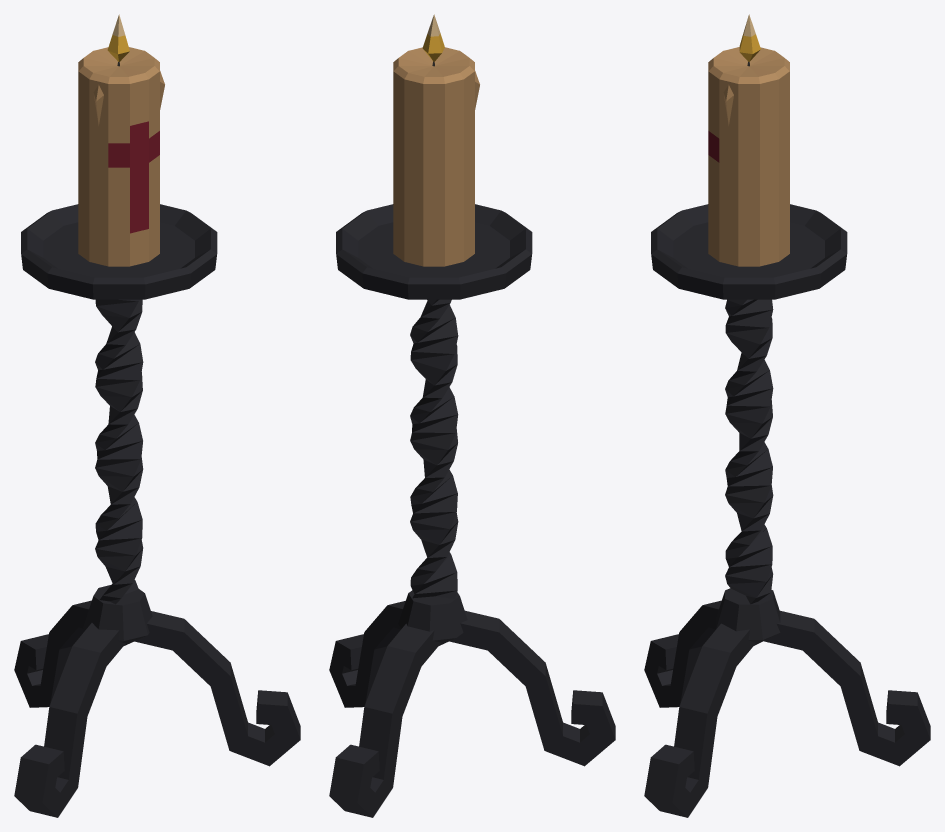
Rendered from cirio-stand-828e85.glb.
3 renders of one model, left to right at view 1: azimuth 30°, elevation 25°; view 2: azimuth 150°, elevation 25°; view 3: azimuth 270°, elevation 25°, orthographic.
Parts seen in each view (by area): view 1: stand, cirio-wax, flame-mesh; view 2: stand, cirio-wax, flame-mesh; view 3: stand, cirio-wax, flame-mesh.
Boxes of the visible parts, x1=… form: stand: x1=14, y1=204, x2=300, y2=817; cirio-wax: x1=78, y1=47, x2=164, y2=266; flame-mesh: x1=107, y1=14, x2=129, y2=61; stand: x1=329, y1=204, x2=615, y2=817; cirio-wax: x1=393, y1=47, x2=479, y2=266; flame-mesh: x1=422, y1=14, x2=444, y2=61; stand: x1=644, y1=204, x2=930, y2=817; cirio-wax: x1=708, y1=47, x2=789, y2=266; flame-mesh: x1=739, y1=14, x2=760, y2=61.
Size of the model in its own units: 0.8638 by 2.15 by 0.7481.
